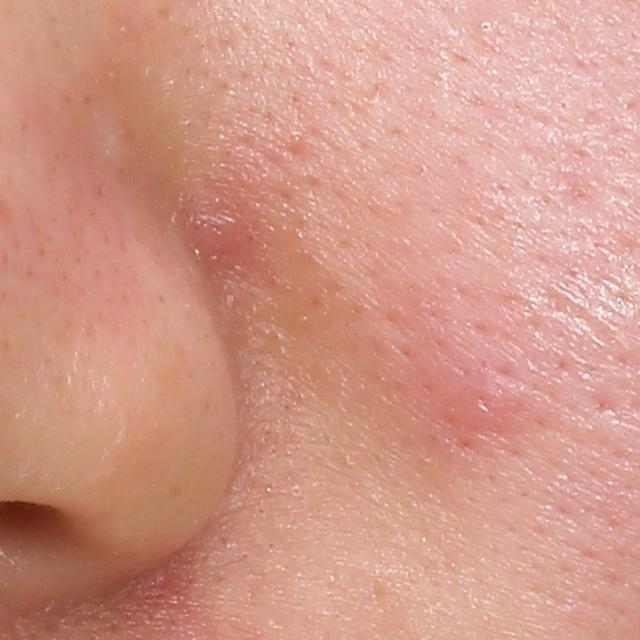comedo: (478, 19, 493, 34)
papule: (187, 203, 239, 260)
